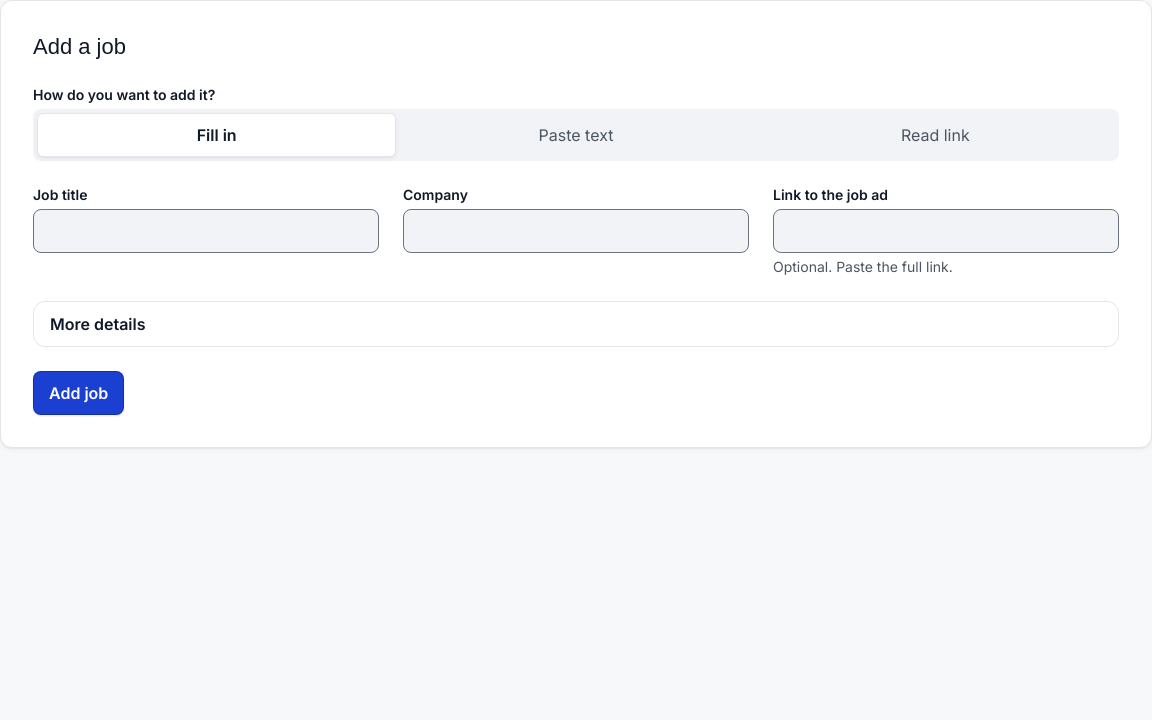
AddJob › adds a check this hint when the title came from the page heading
Click the radio button labelled "Read link" at (935, 134), box [756,112,1115,156]
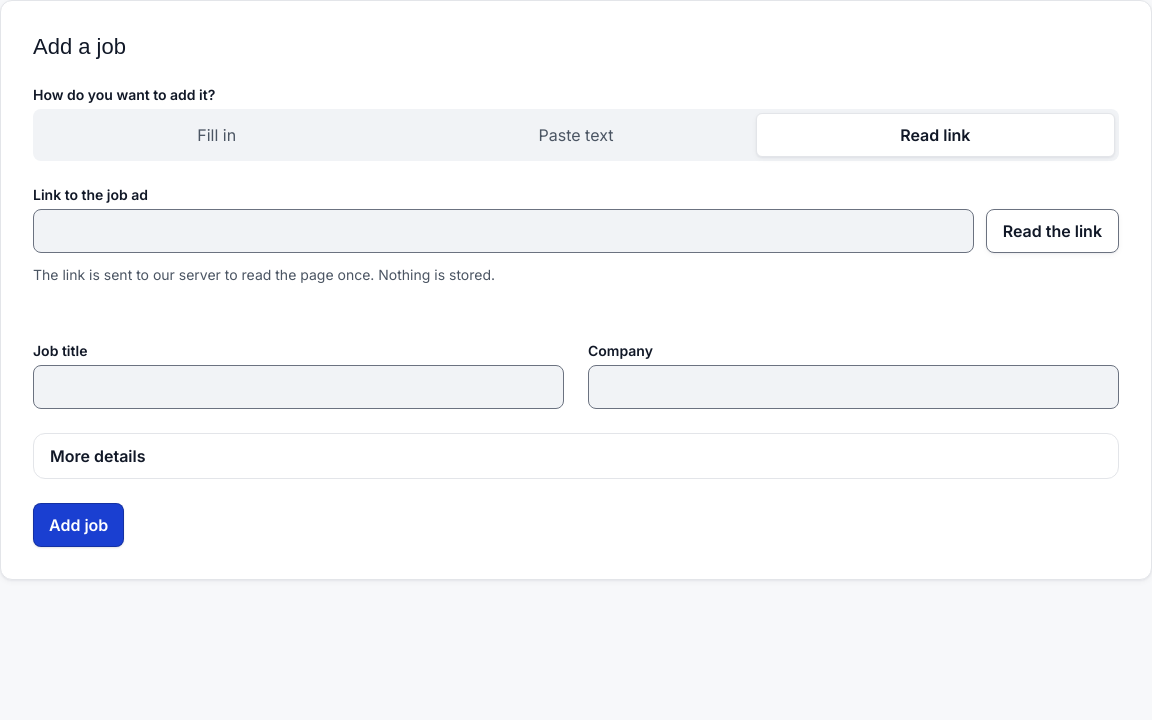
Type "https://example.com/ad" into the field labelled "Link to the job ad" at (503, 230), box [33,208,974,252]
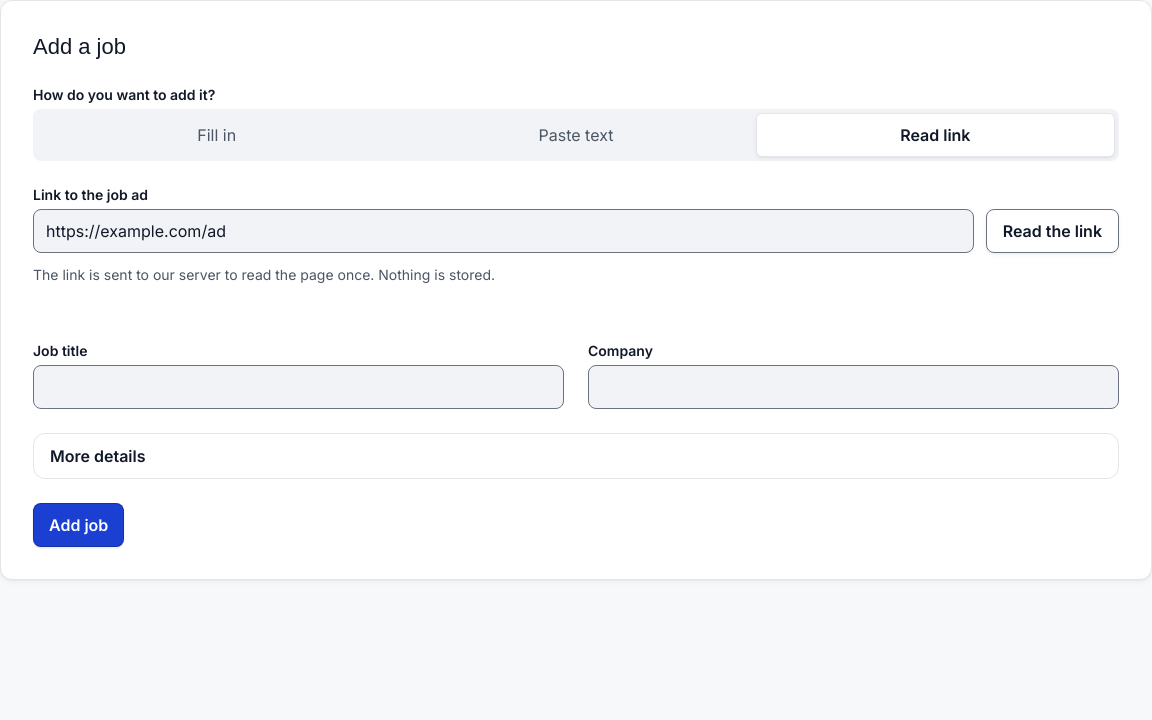
Click the button "Read the link" at (1052, 230), box [986,208,1119,252]
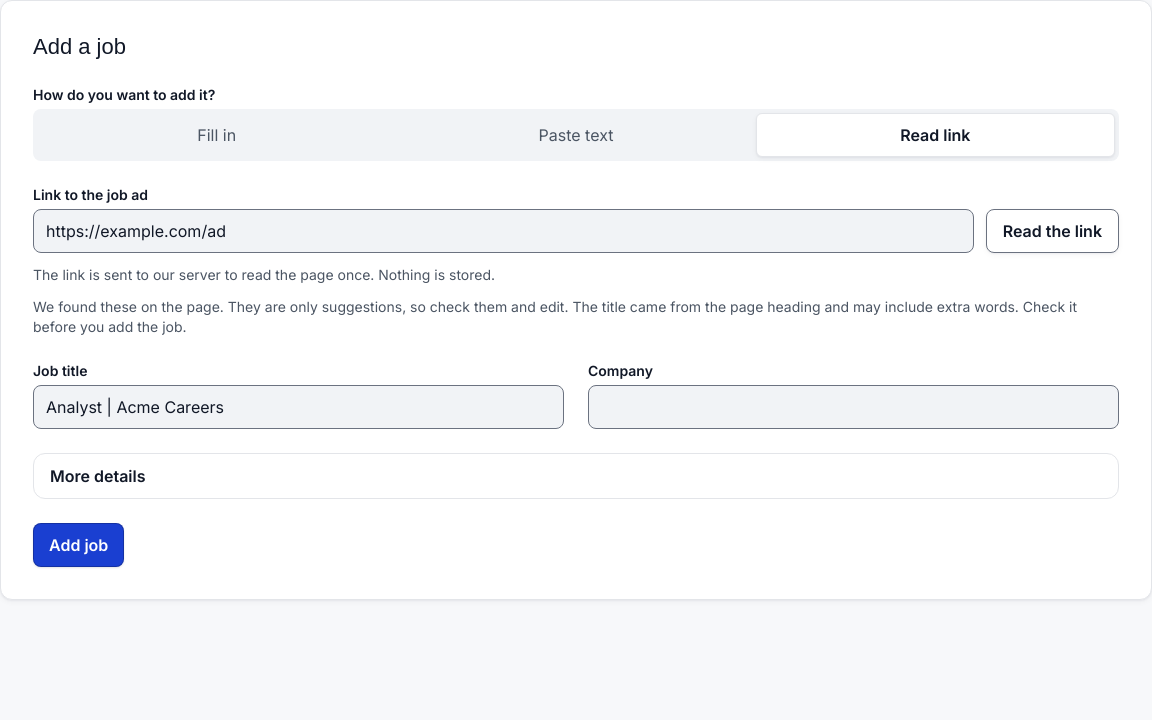
Expected: the text "may include extra words" is shown, [33,298,1077,334]
